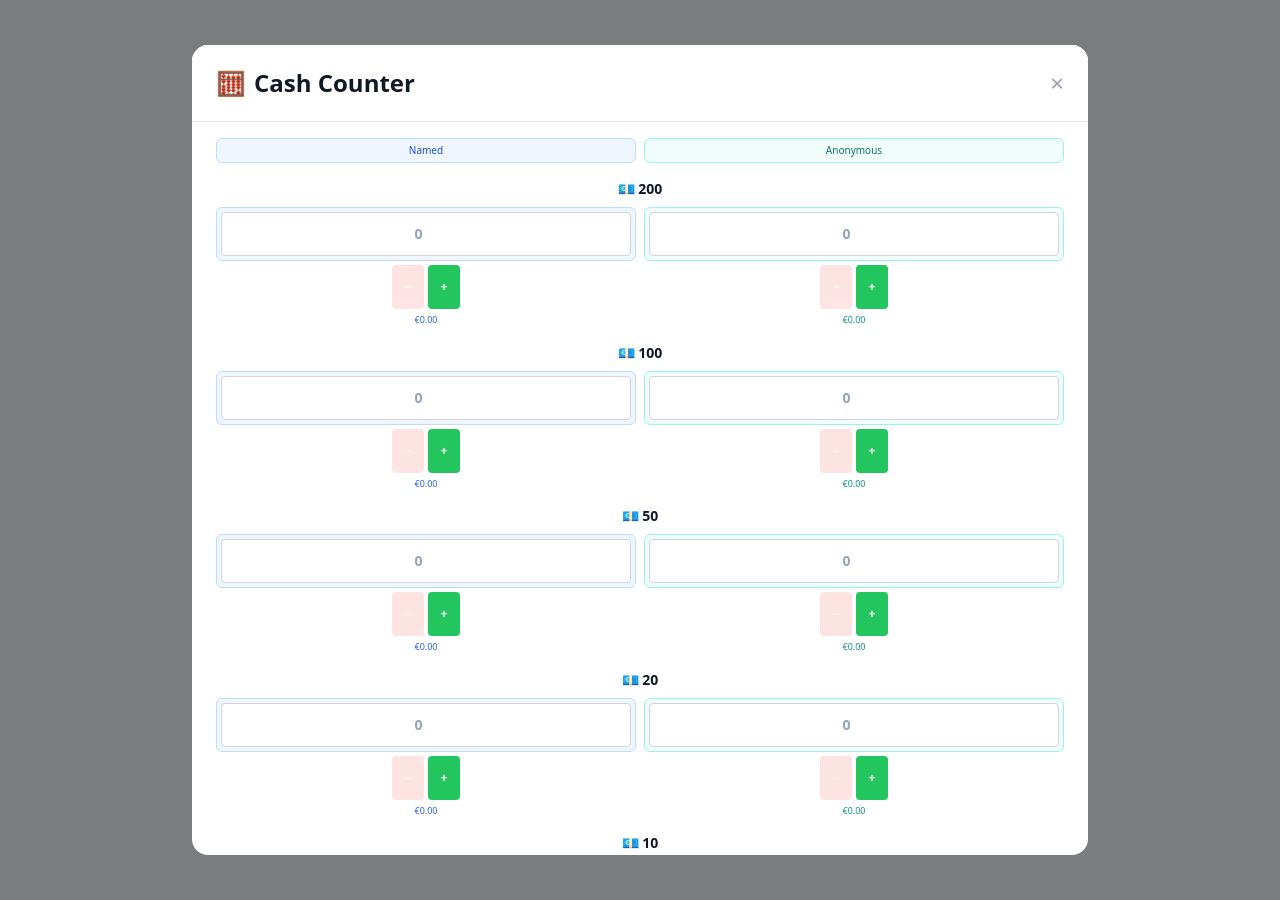
Test: CashCounterModal - Simplified Implementation (SPEC-UI-003) › Real-time Total Calculation › should calculate named total in real-time
The width and height of the screenshot is (1280, 900).
Expected: the text "💶 50" is shown, [622, 506, 658, 525]
Type "1" into the 5th number field with placeholder "0" at (426, 561), box [221, 539, 631, 583]
Wait 500 ms
(page scrolled)
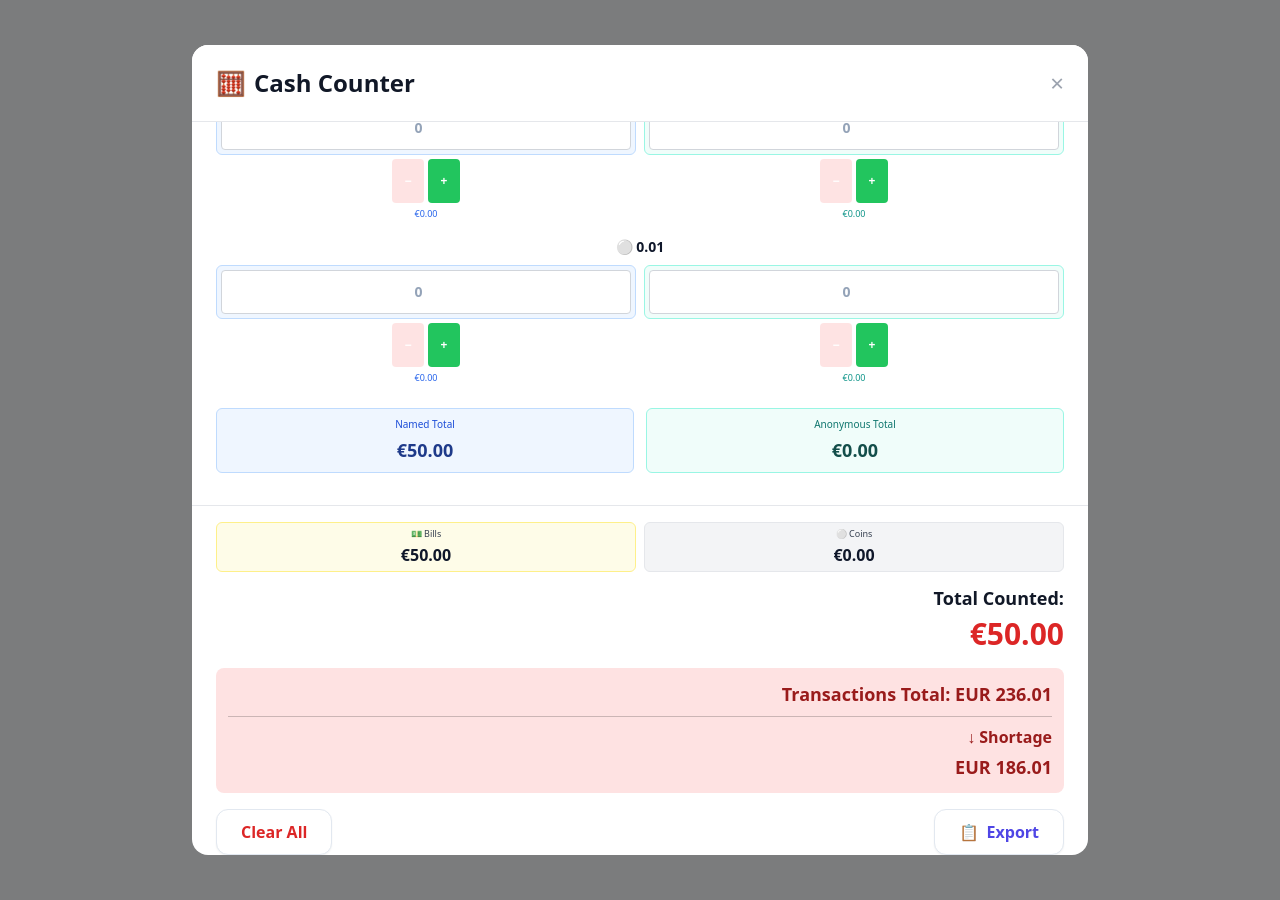
Now the text "€50.00" below "Named Total" is shown, box [397, 438, 453, 462]
